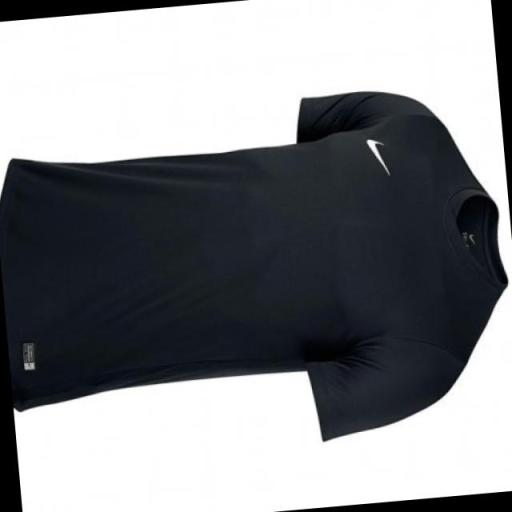Nike: (357, 131, 394, 184)
